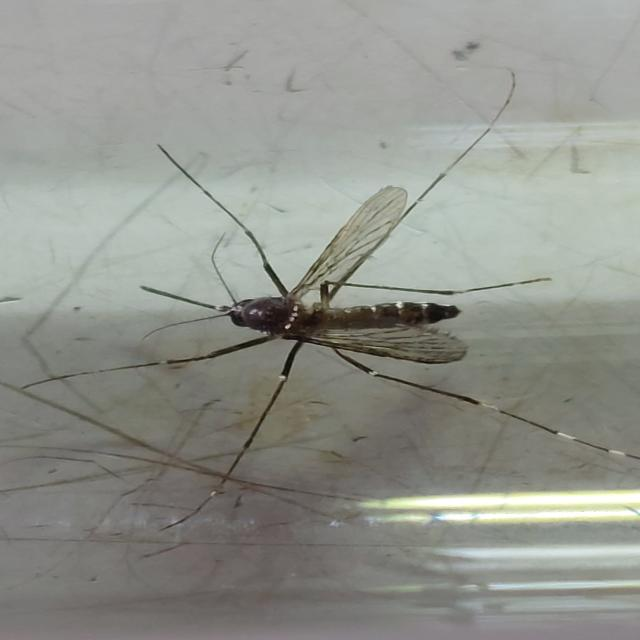albopictus: (33, 70, 619, 560)
